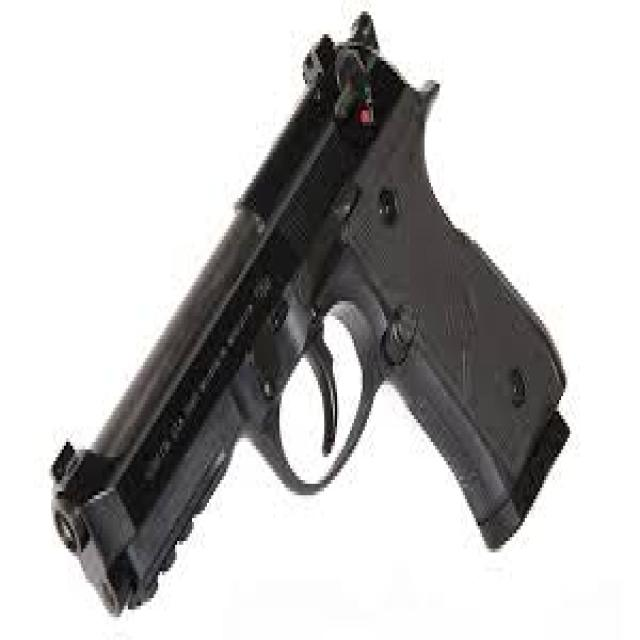pistol: (39, 1, 573, 630)
